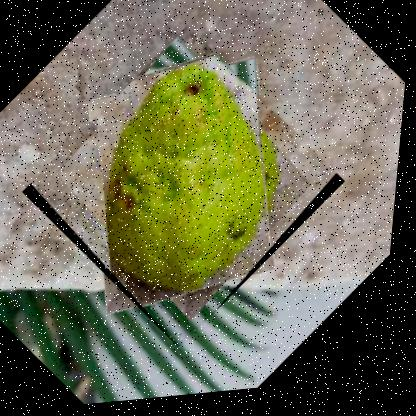guava: (10, 11, 361, 364)
